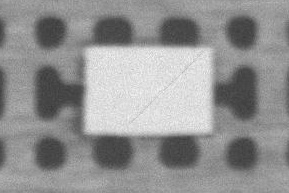DIE_CRACK: (195, 34, 289, 82)
